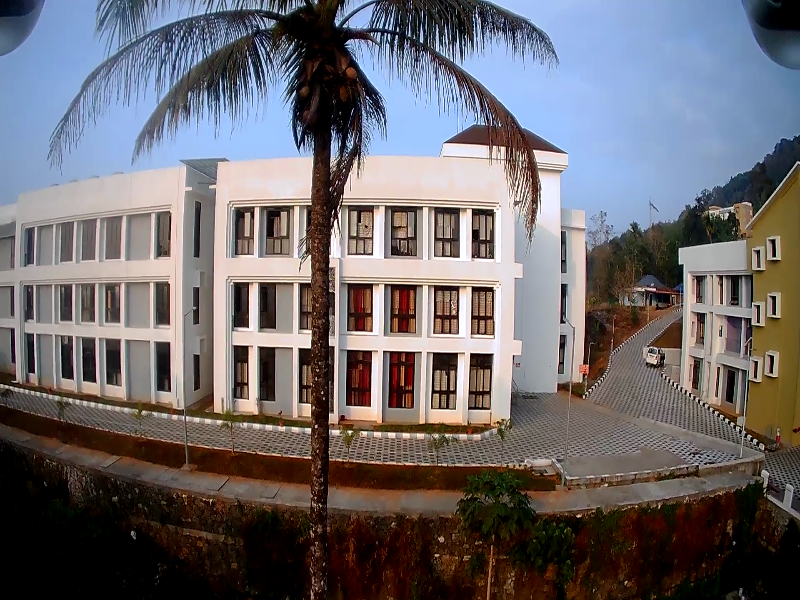coconut: (335, 82, 359, 106), (297, 80, 313, 103), (344, 63, 359, 85), (300, 109, 313, 122)
